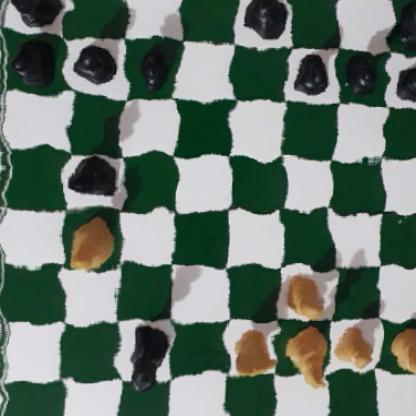black-bishop: (68, 155, 125, 203)
black-king: (240, 0, 294, 42)
black-pawn: (8, 36, 60, 81), (72, 42, 117, 86), (134, 43, 177, 89), (290, 50, 331, 97), (344, 53, 379, 97), (393, 51, 416, 106)
black-queen: (124, 323, 171, 391)
black-rook: (0, 0, 63, 30), (396, 0, 416, 49)
white-bishop: (67, 217, 114, 272)
white-king: (280, 324, 329, 391)
white-knight: (231, 325, 281, 379)
white-pawn: (285, 272, 327, 317), (334, 327, 375, 369), (386, 328, 416, 375)
